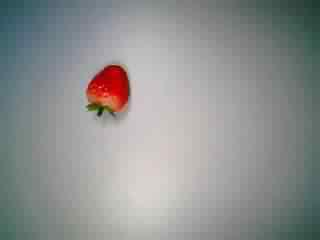strawberry: (78, 62, 140, 126)
